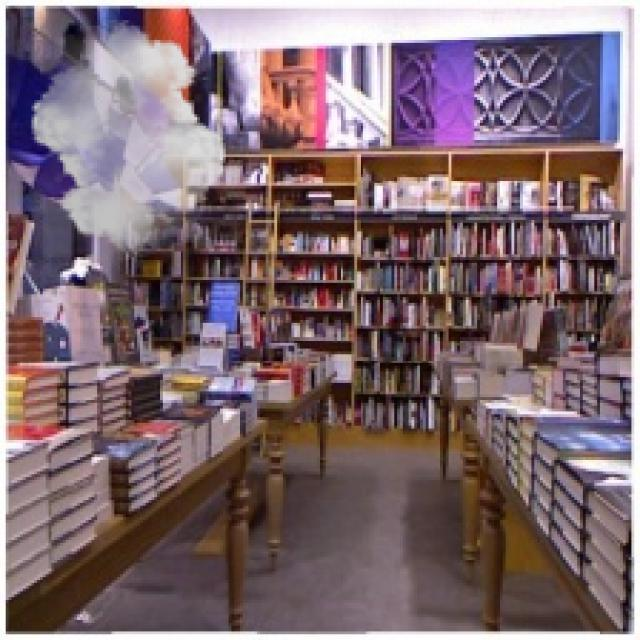Smoke: (23, 20, 234, 257)
